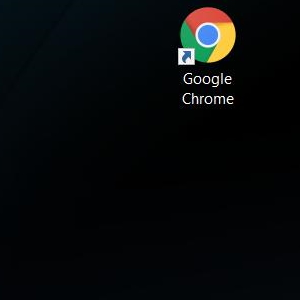chrome: (177, 7, 235, 65)
